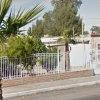Tree: (35, 0, 87, 38)
